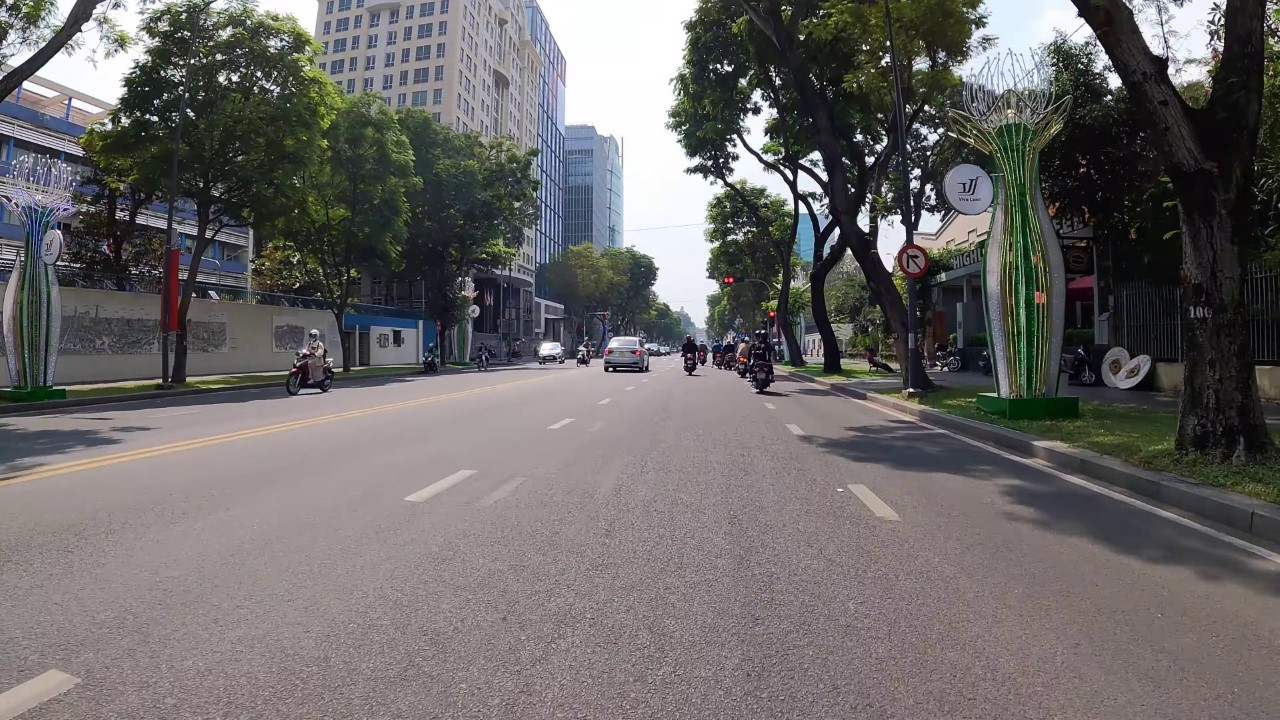cam_re_phai: (895, 243, 929, 278)
